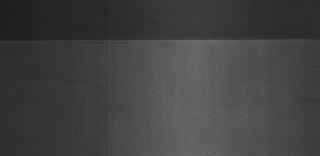welding line: (3, 35, 320, 47)
